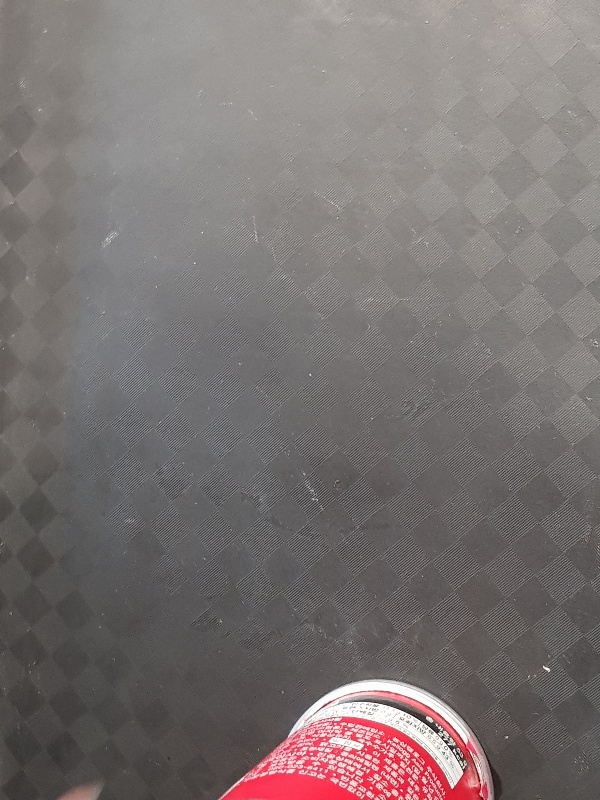Pringles Original: (212, 674, 497, 800)
